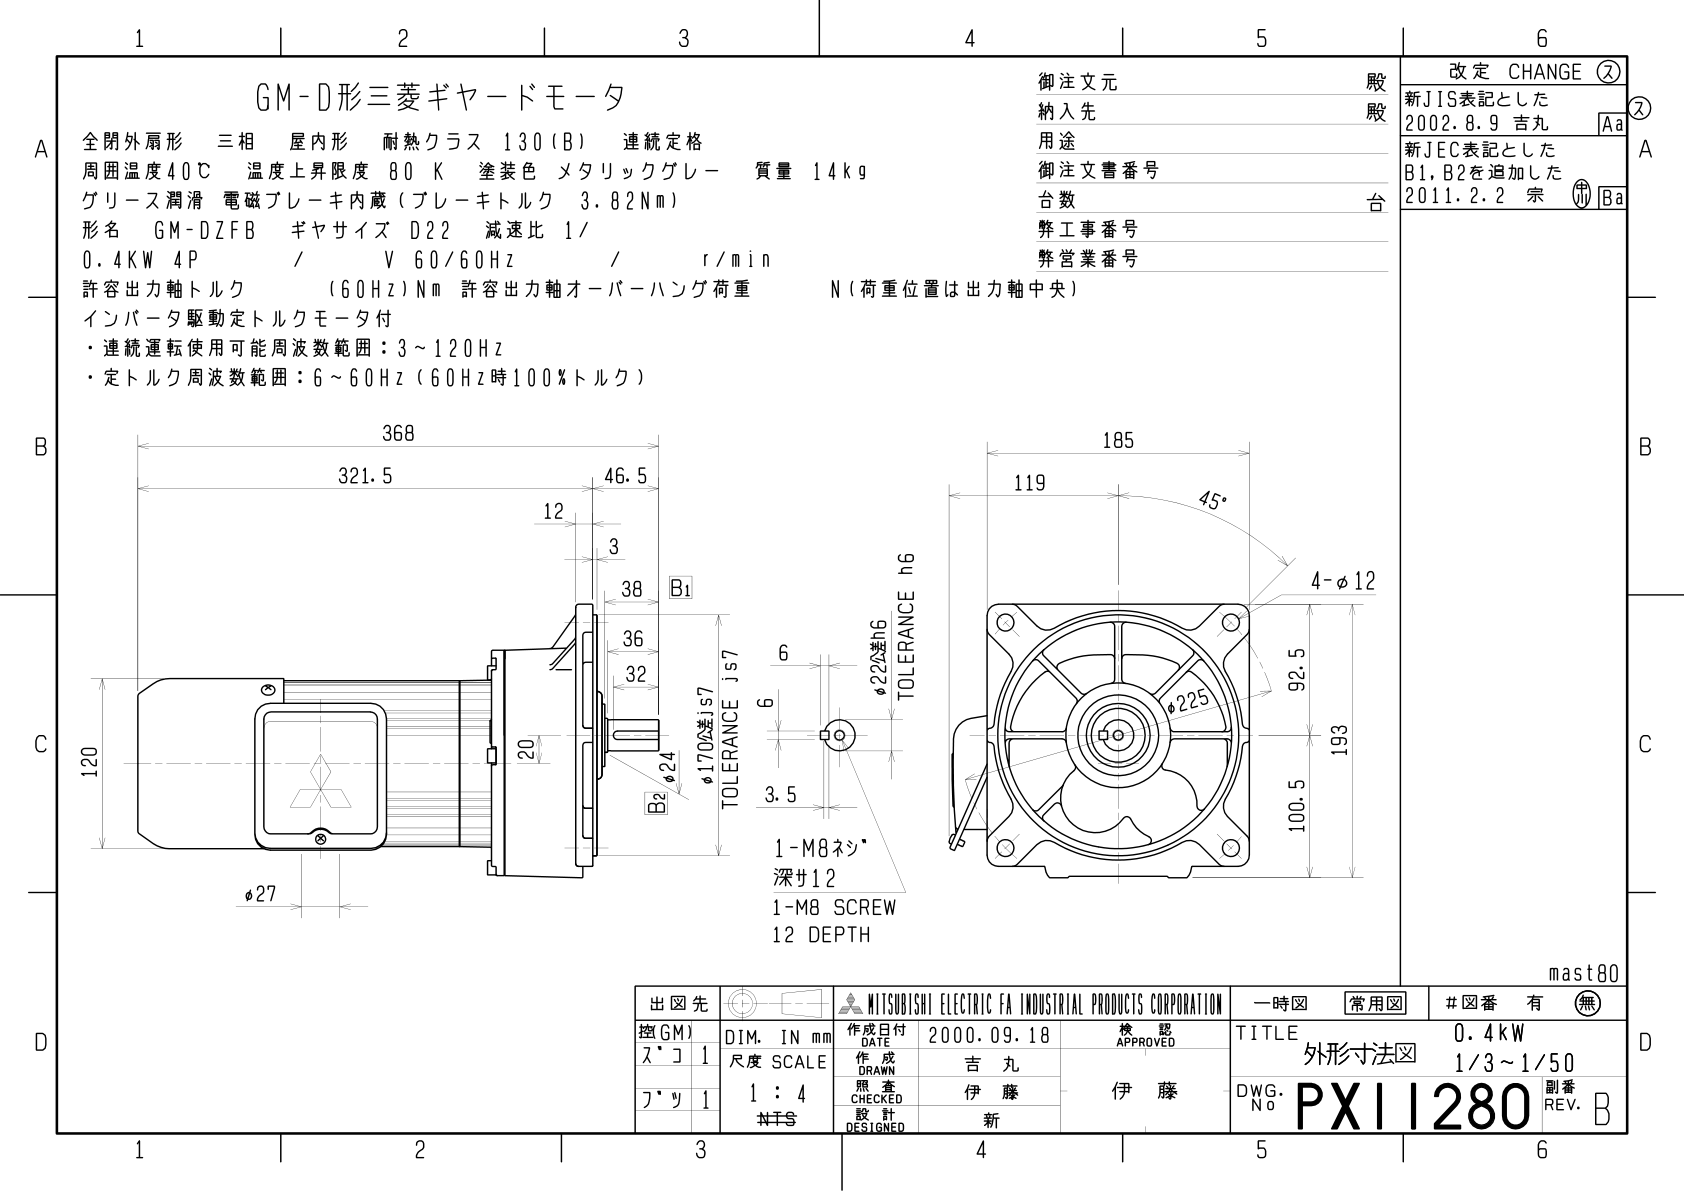GM_D_インバータ屋内_三相_フランジ: (63, 416, 1386, 965)
